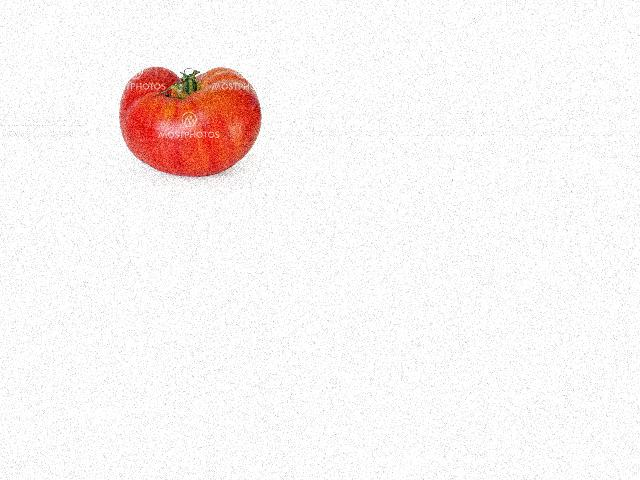tomato: (120, 66, 261, 176)
